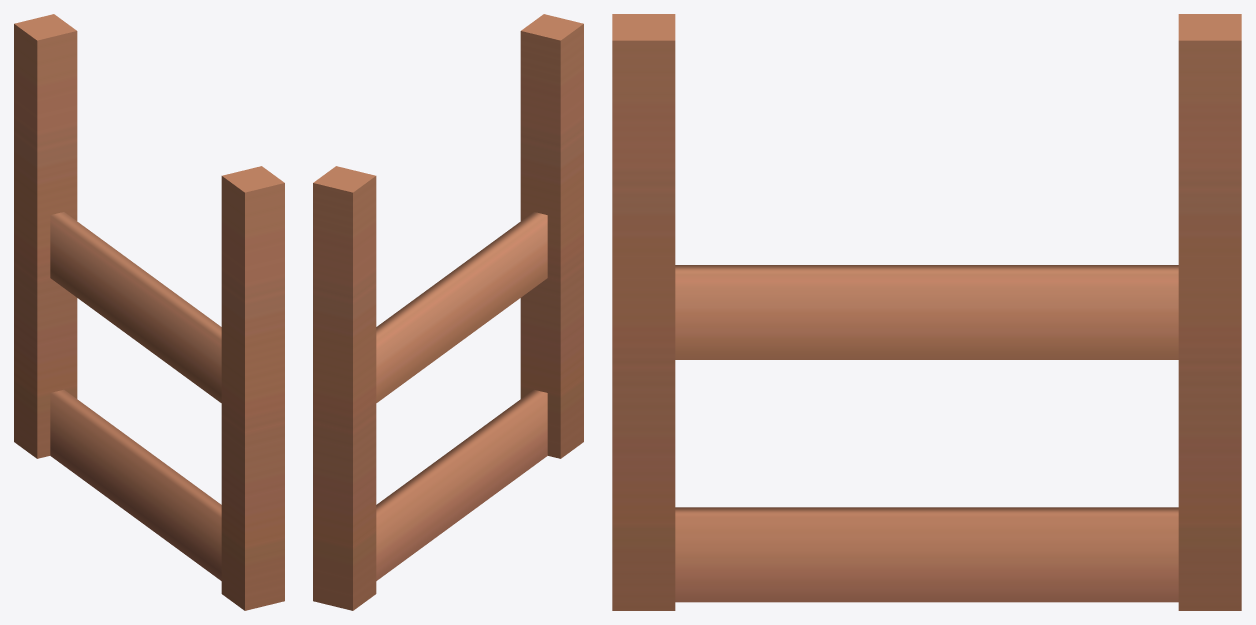
The model's file is poles-horizontal.glb.
The picture shows the model from 3 angles, left to right: view 1: azimuth 30°, elevation 25°; view 2: azimuth 150°, elevation 25°; view 3: azimuth 270°, elevation 25°; orthographic projection. The views are drawn at different scales.
Visible parts, largest first — view 1: poles-horizontal; view 2: poles-horizontal; view 3: poles-horizontal.
Part boxes in pixels (x1,y1,x2,y2): poles-horizontal: (14,14,284,610); poles-horizontal: (313,14,583,610); poles-horizontal: (612,14,1241,610).
Size of the model in its own units: 0.1 by 1 by 1.
1 material, 1 textured.
